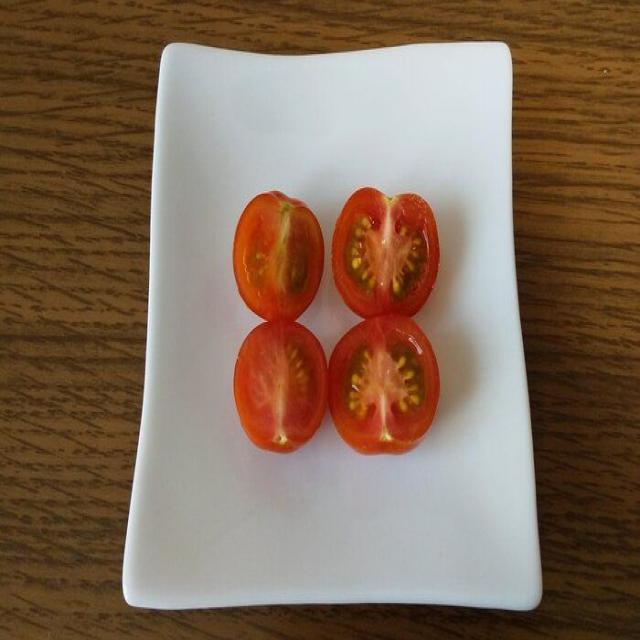Tomato: (322, 311, 446, 467), (328, 183, 446, 323), (226, 316, 334, 460), (230, 182, 327, 329)
